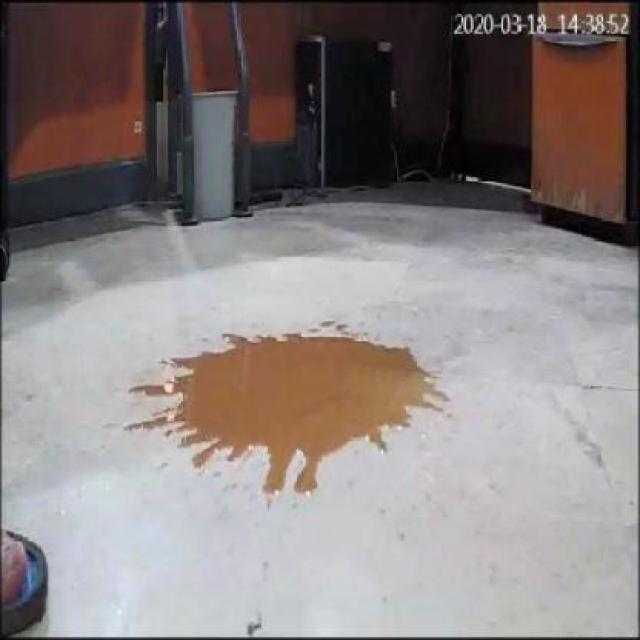spillage: (139, 337, 448, 497)
